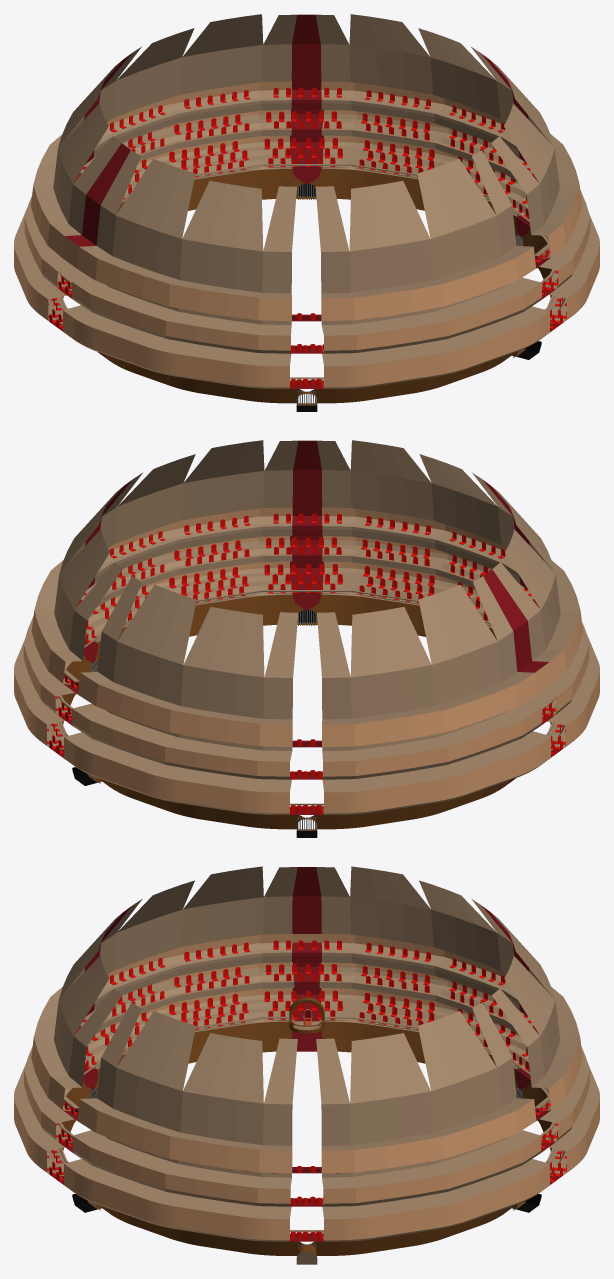
File: Arena.fbx
The picture shows the model from 3 angles, top to bottom: view 1: azimuth 30°, elevation 25°; view 2: azimuth 150°, elevation 25°; view 3: azimuth 270°, elevation 25°; orthographic projection.
Parts seen in each view (by area): view 1: Arena; view 2: Arena; view 3: Arena.
Boxes of the visible parts, x1=… form: Arena: x1=14, y1=14, x2=599, y2=411; Arena: x1=14, y1=440, x2=599, y2=837; Arena: x1=14, y1=866, x2=599, y2=1264.
Bounding box in the file's own units: 8277 × 3202 × 8354.
